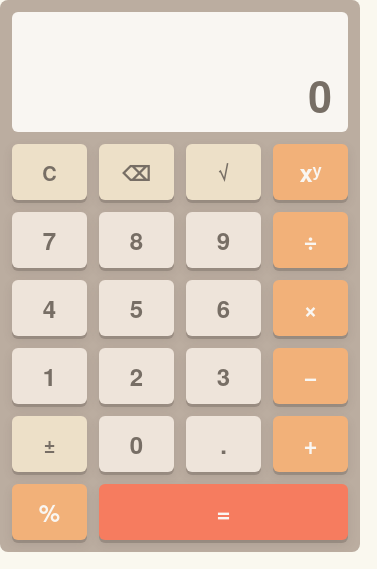
Scenario: Calculator › shows API errors and recovers on the next digit
Click the button "5" at {"x": 136, "y": 308}, box [99, 280, 174, 336]
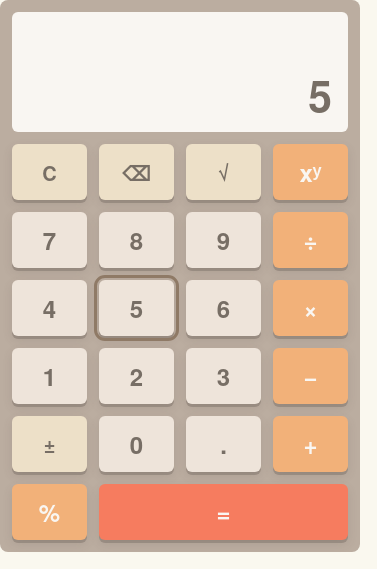
Click the button named "divide" at {"x": 310, "y": 240}, box [273, 212, 348, 268]
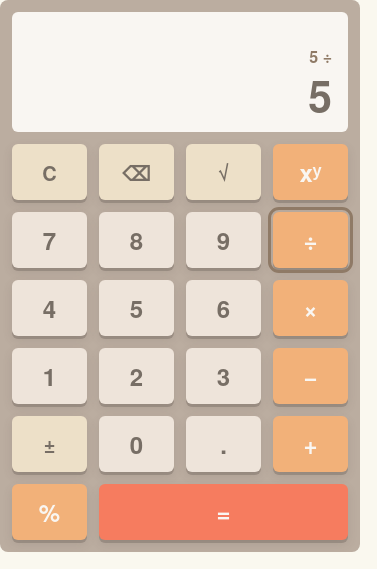
Click the button "0" at {"x": 136, "y": 444}, box [99, 416, 174, 472]
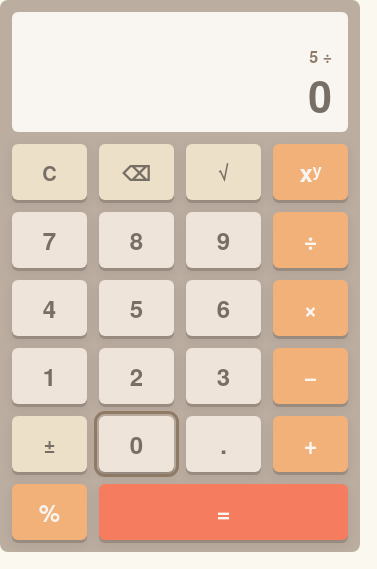
Click the button named "equals" at {"x": 224, "y": 512}, box [99, 484, 348, 540]
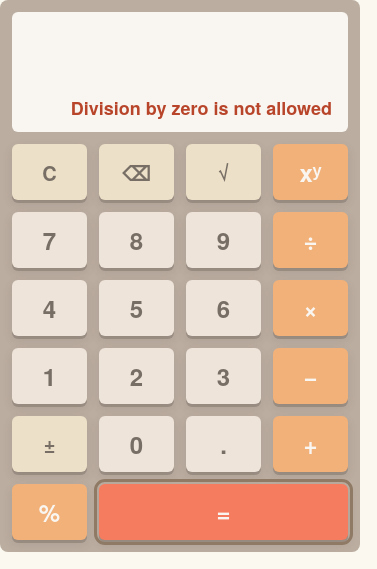
Now the message reads "division by zero is not allowed", box [71, 95, 332, 121]
Click the button "7" at {"x": 50, "y": 240}, box [12, 212, 87, 268]
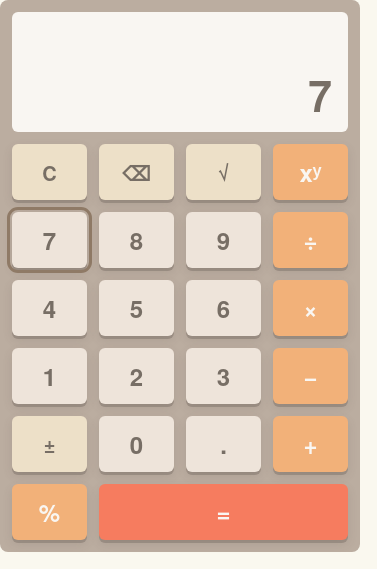
Now the message "division by zero is not allowed" is gone
